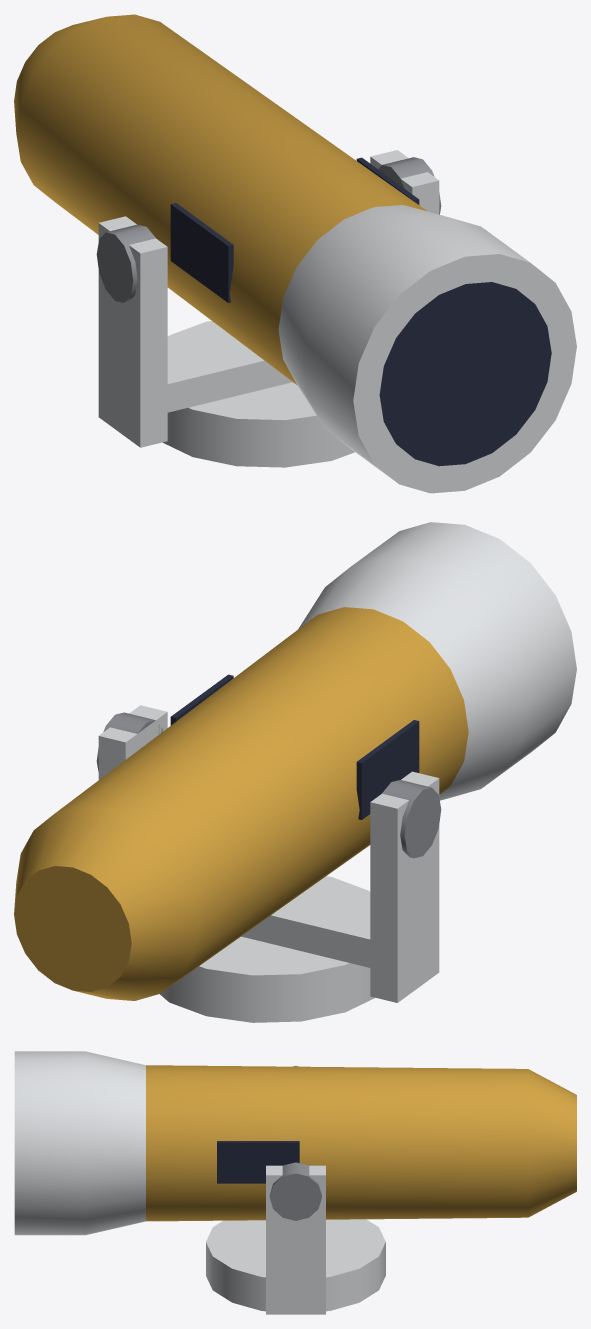
File: sm1_optics.obj
3 renders of one model, top to bottom at view 1: azimuth 30°, elevation 25°; view 2: azimuth 150°, elevation 25°; view 3: azimuth 270°, elevation 25°, orthographic. The views are drawn at different scales.
Visible parts, largest first — view 1: sm1_optics; view 2: sm1_optics; view 3: sm1_optics.
Boxes of the visible parts, <box> form: sm1_optics: <box>14,14,576,493</box>; sm1_optics: <box>14,522,576,1022</box>; sm1_optics: <box>14,1051,576,1314</box>.
Size of the model in its own units: 0.68 by 0.637 by 1.5.
